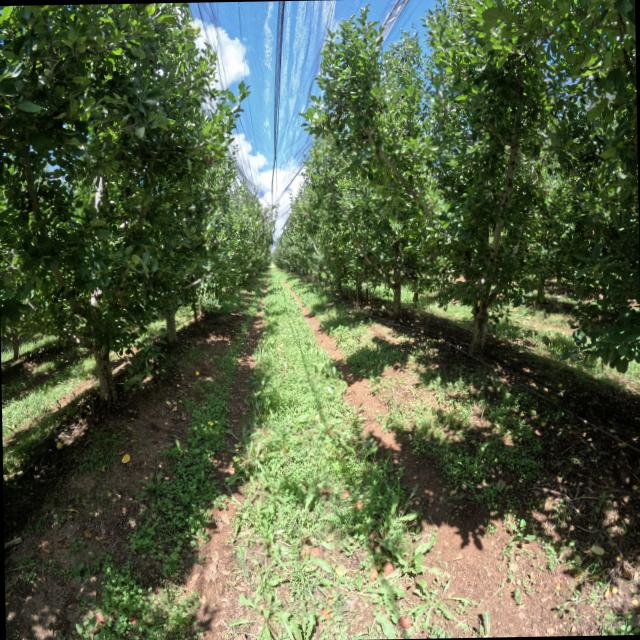-FireBlight-: (202, 152, 214, 165)
